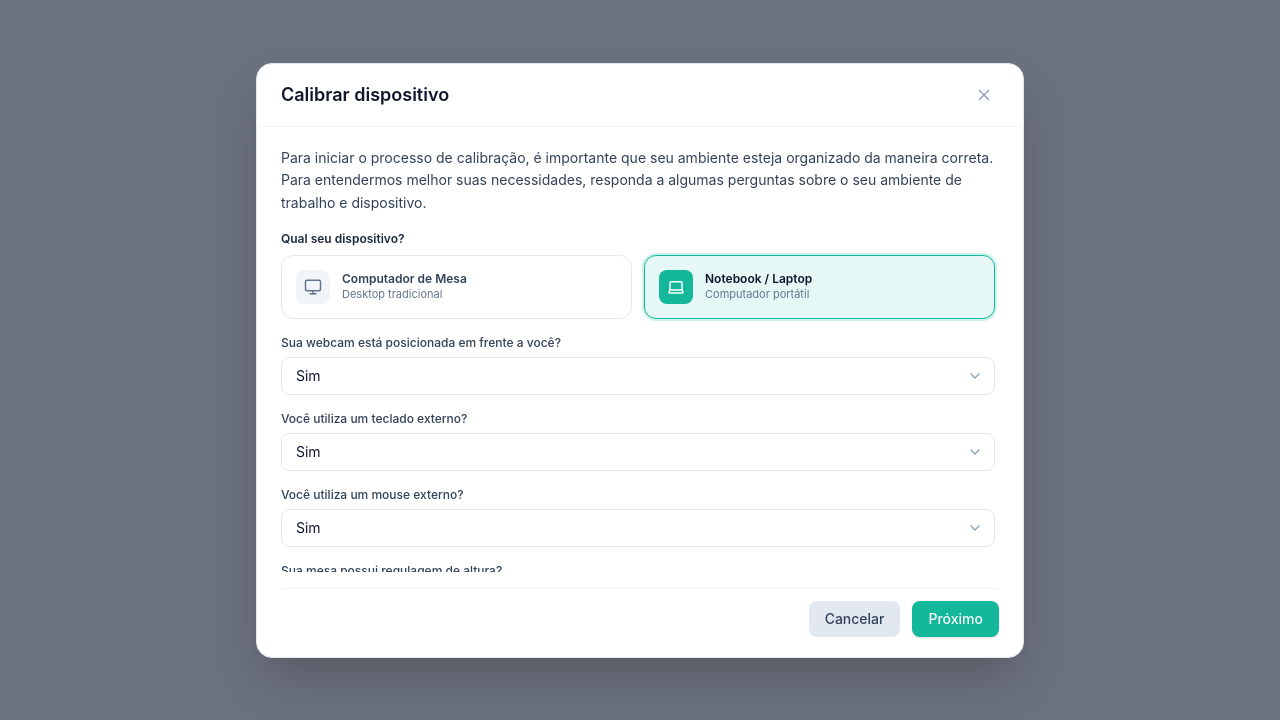
Scenario: WebcamFeed and deterministic biomechanics › keeps calibration unavailable on camera denial
Click the button "Próximo".
click(956, 618)  # box top-left (912, 600), bottom-right (999, 636)
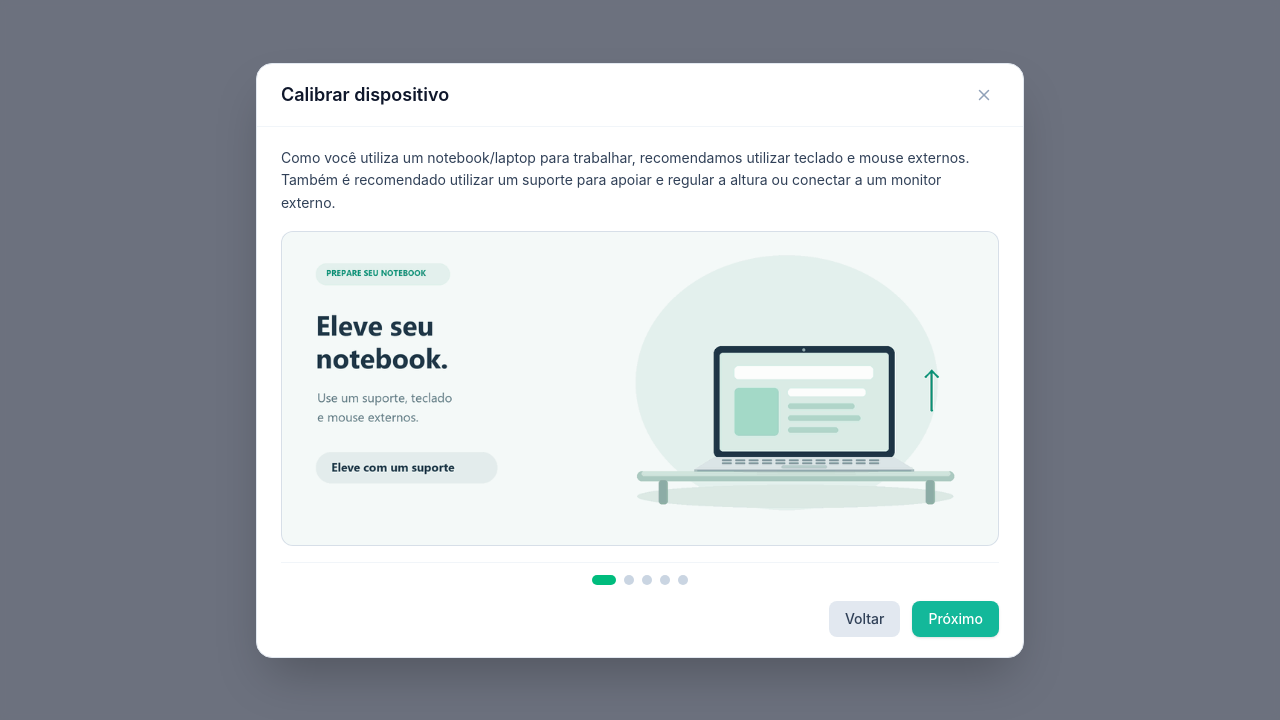
Click the button "Próximo".
click(956, 618)  # box top-left (912, 600), bottom-right (999, 636)
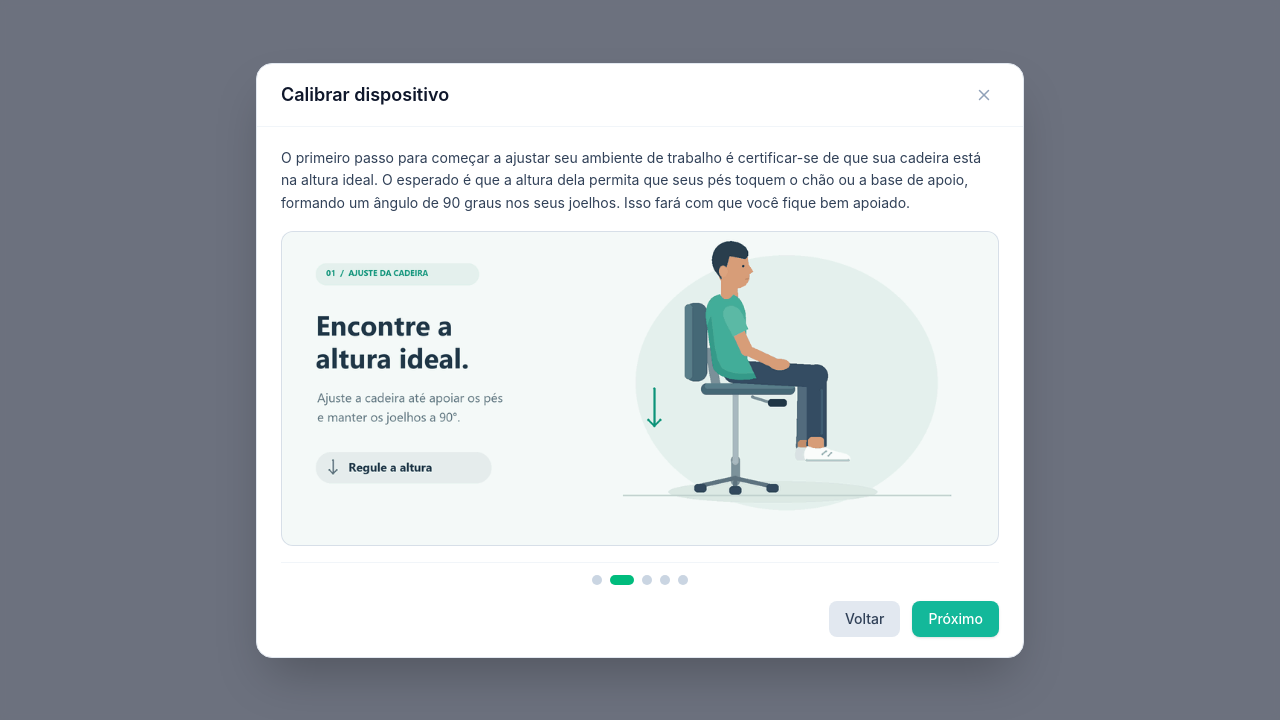
Click the button "Próximo".
click(956, 618)  # box top-left (912, 600), bottom-right (999, 636)
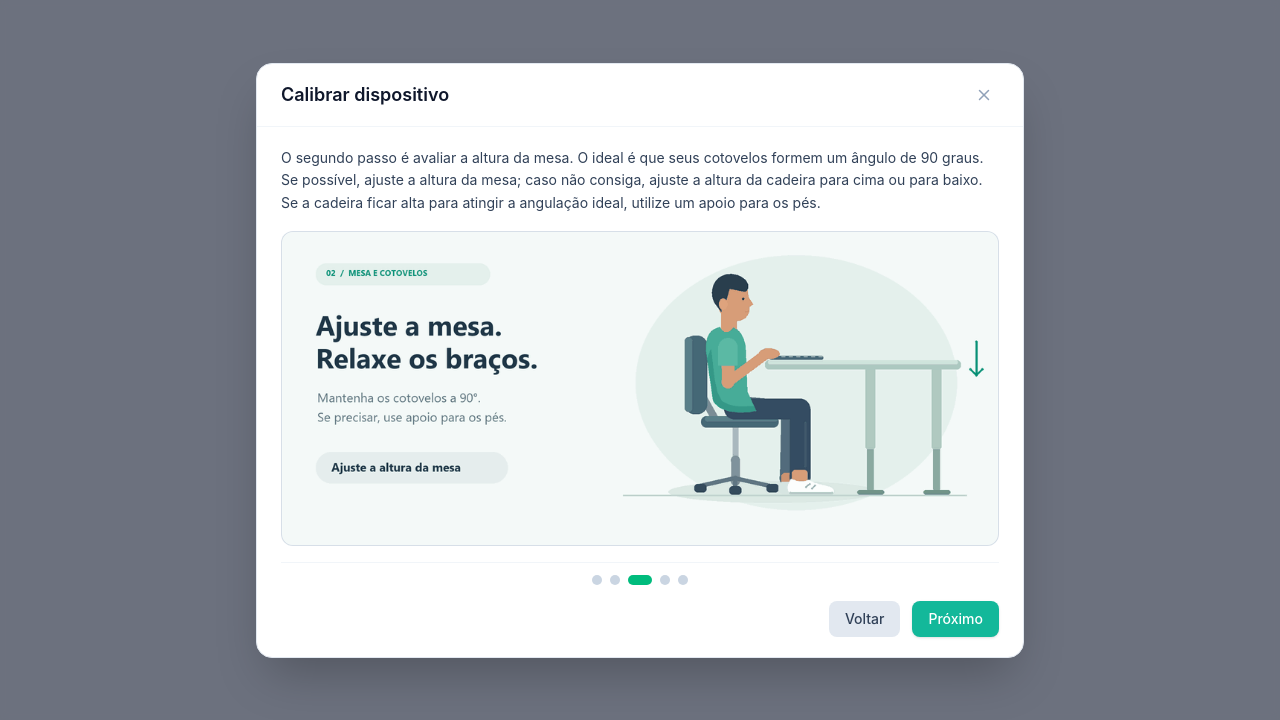
Click the button "Próximo".
click(956, 618)  # box top-left (912, 600), bottom-right (999, 636)
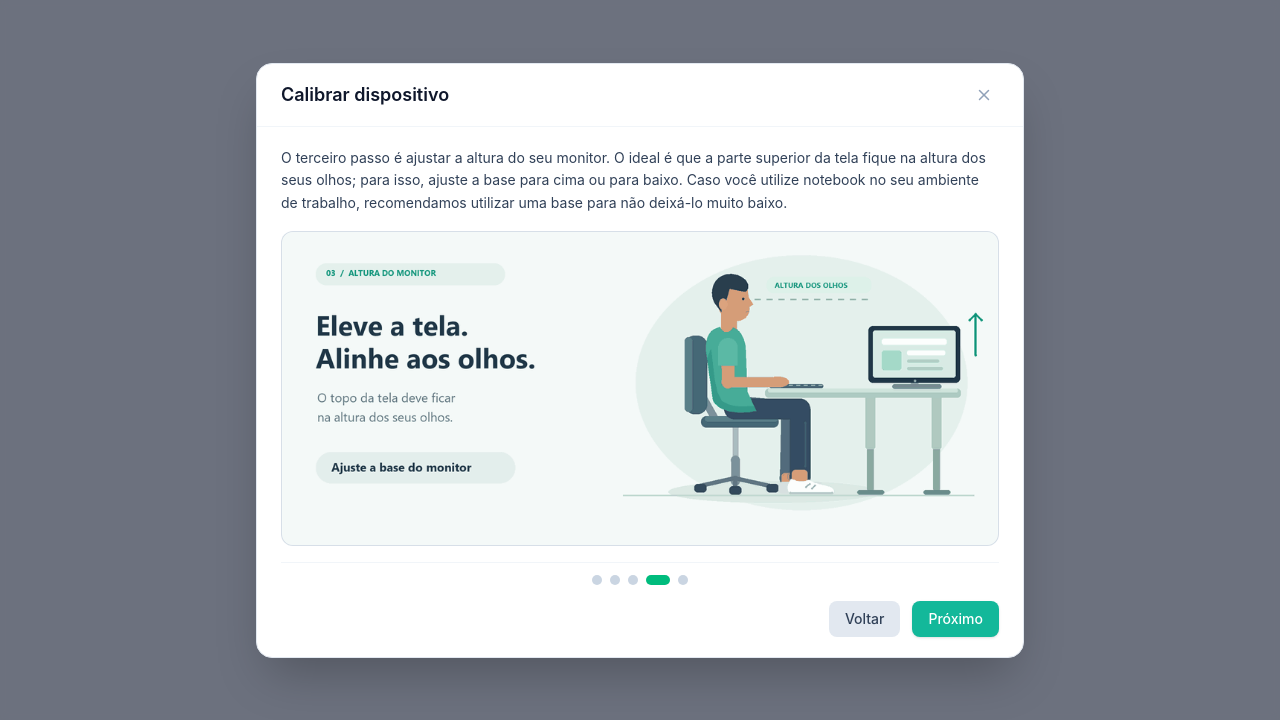
Click the button "Próximo".
click(956, 618)  # box top-left (912, 600), bottom-right (999, 636)
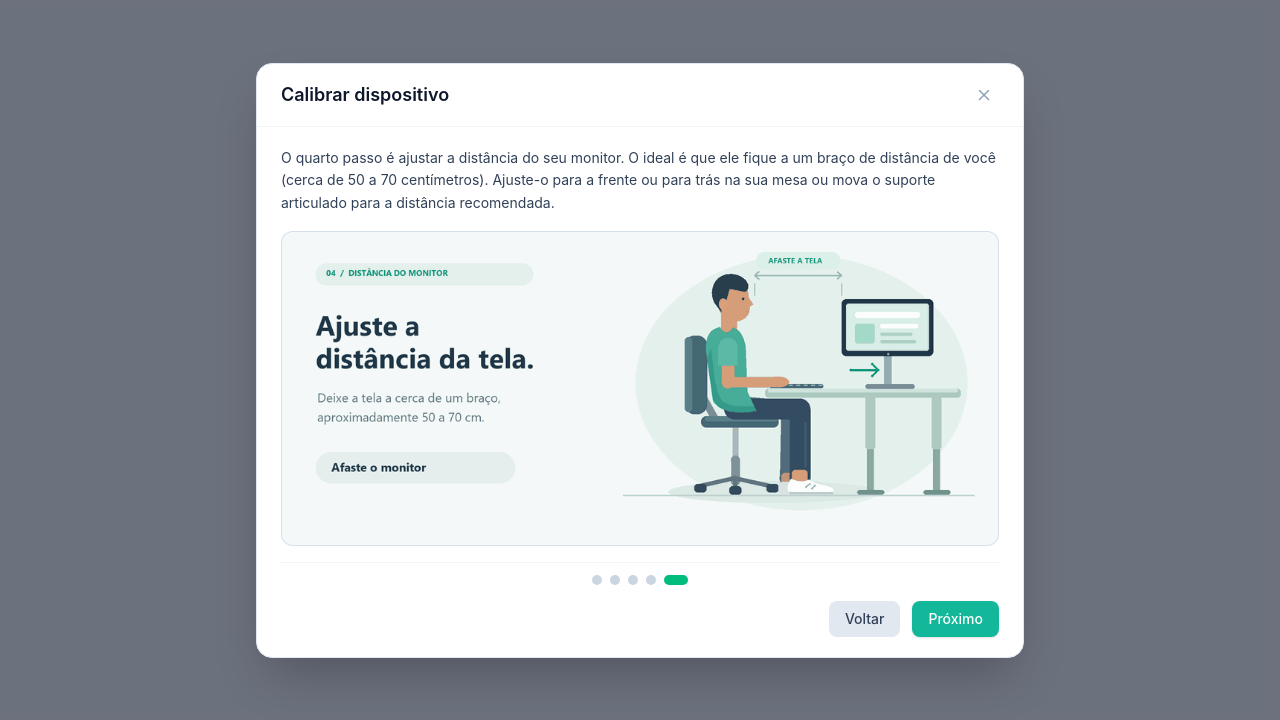
Click the button "Próximo".
click(956, 618)  # box top-left (912, 600), bottom-right (999, 636)
Wait 200 ms
(page scrolled)
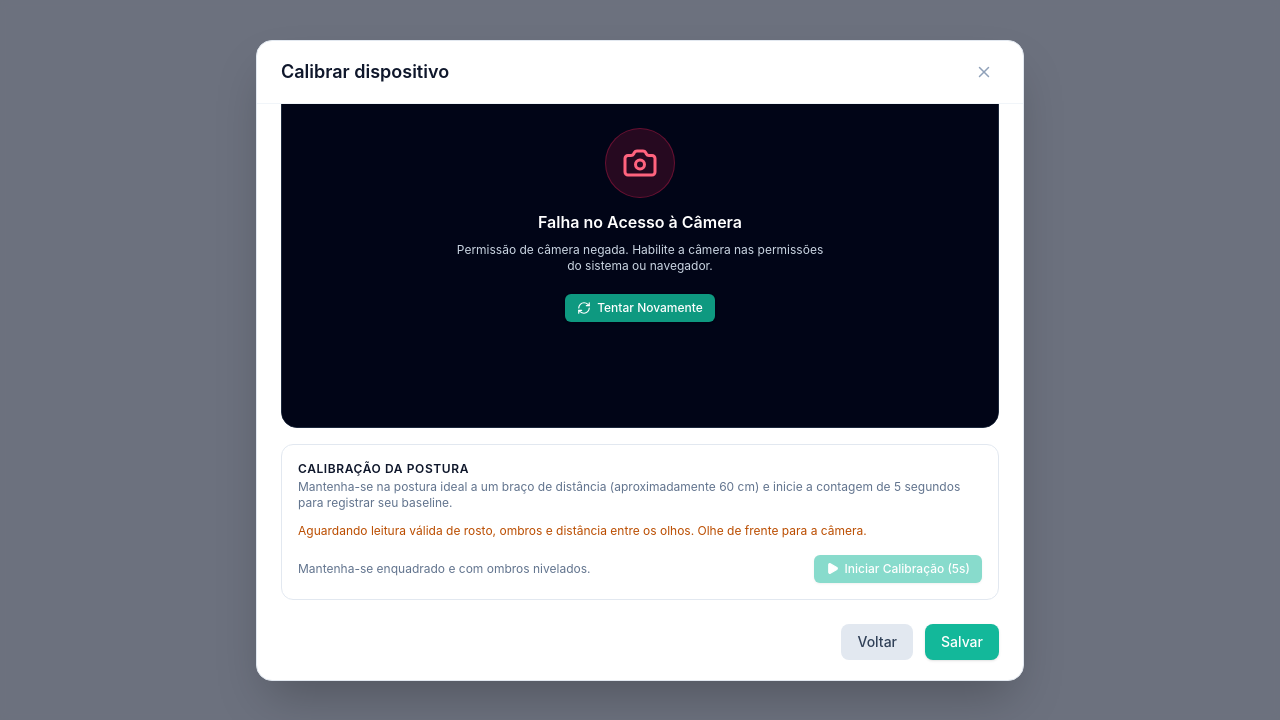
Check: the dialog shows "Permissão de câmera negada", box top-left (457, 242), bottom-right (823, 273)
Check: the button "Iniciar Calibração (5s)" is disabled, box top-left (814, 555), bottom-right (982, 583)
